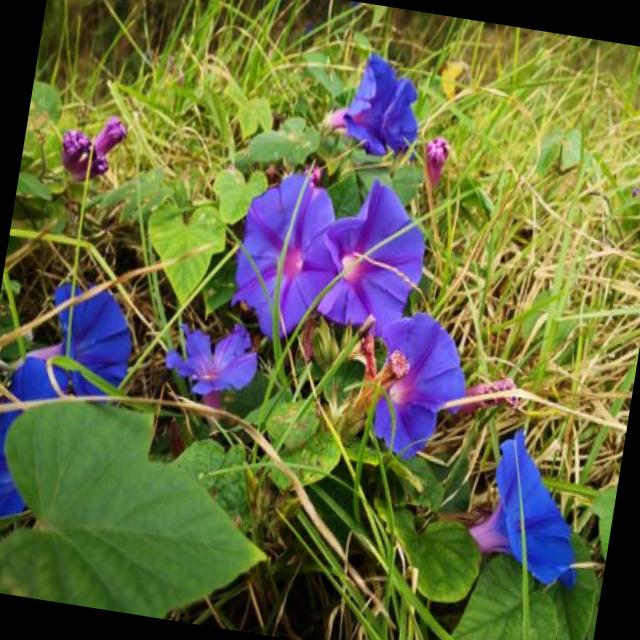ipomoea: (0, 0, 640, 640), (296, 168, 442, 348), (222, 160, 354, 352), (459, 422, 602, 598), (348, 301, 482, 472), (324, 44, 435, 170), (158, 312, 268, 412), (52, 104, 134, 194)
